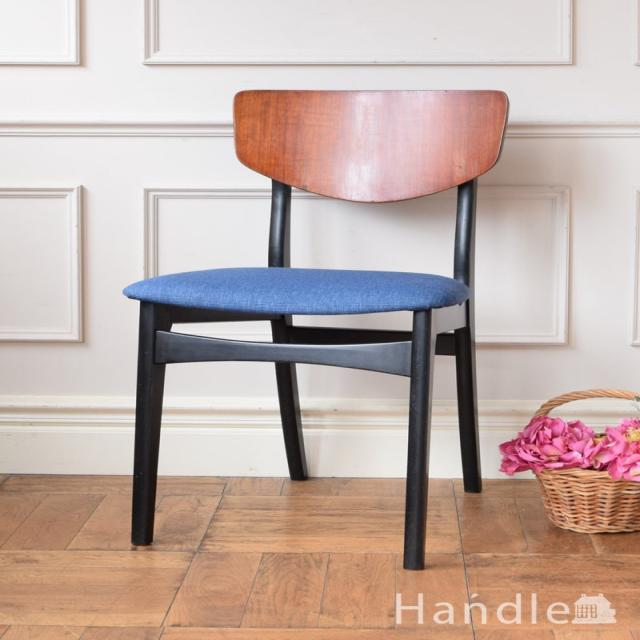chair vintage: (126, 86, 500, 569)
